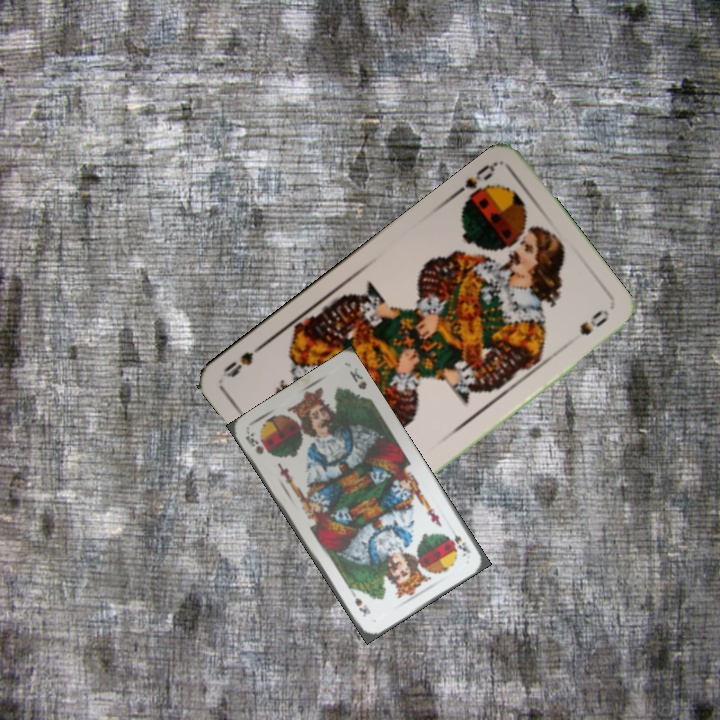SK: (446, 523, 474, 560), (241, 428, 267, 457)
SO: (448, 159, 499, 210)
